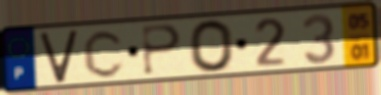2: (253, 16, 289, 69)
3: (300, 10, 337, 67)
C: (81, 28, 127, 80)
O: (187, 18, 237, 75)
P: (140, 23, 185, 77)
V: (37, 27, 80, 85)
